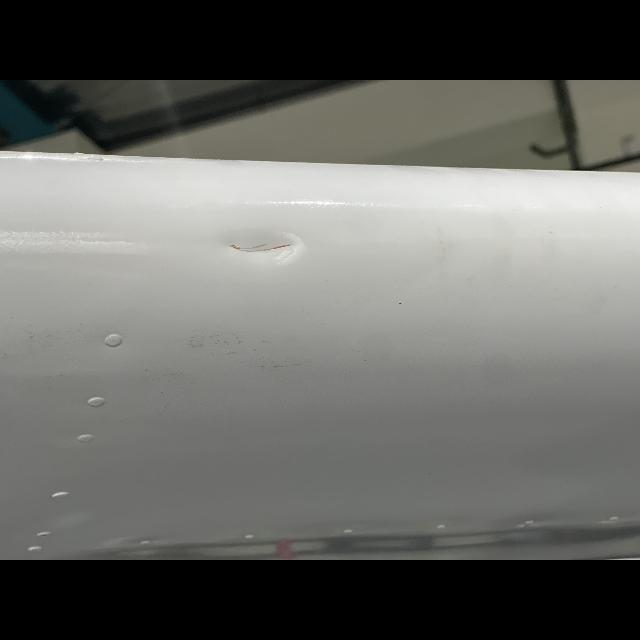dent: (200, 220, 320, 264)
